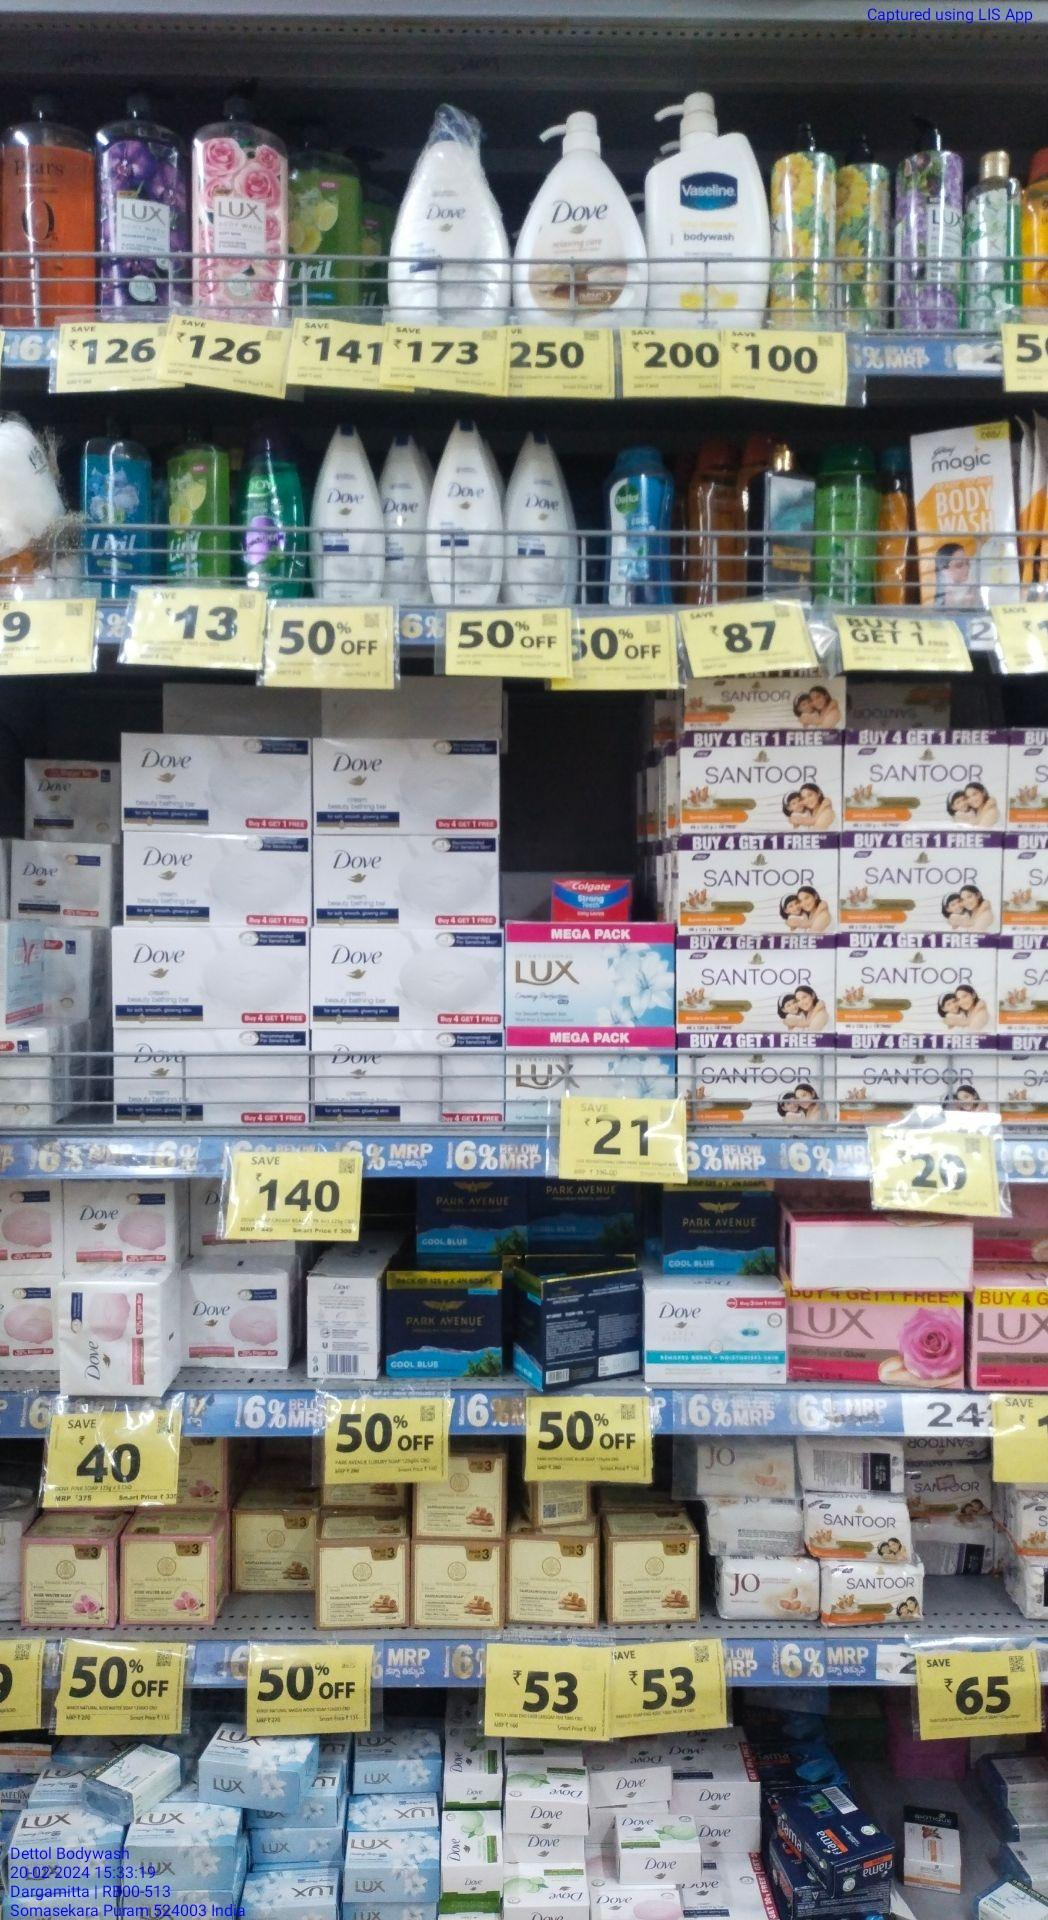Dettol_Bodywash_Cool: (603, 443, 674, 604)
Dove_Deep_Moisture_Body_Wash_250ML: (426, 414, 506, 605), (308, 422, 386, 603), (511, 423, 574, 606)
Joy_Shower_Gel_Mint_and_Eucalyptus_250ML: (235, 425, 305, 590)
Liril_Lime_and_Tea_Tree_Oil_Body_Wash_250ML: (166, 417, 230, 586)
